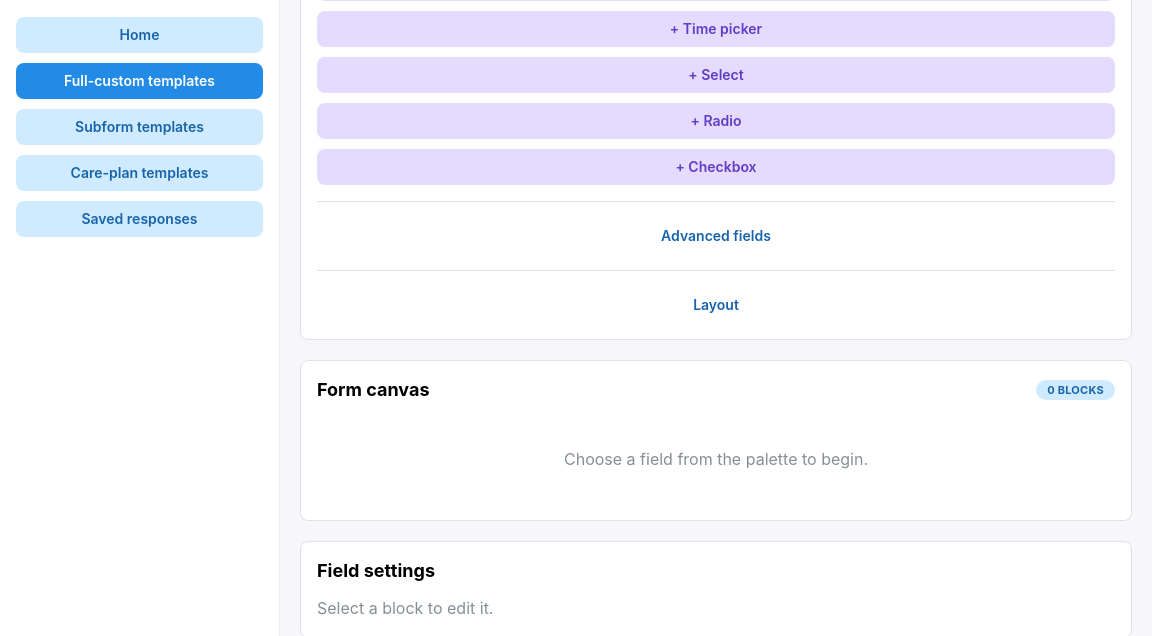
Test: form builder › adds an input inside a stacked container
(page scrolled)
Click the button "Layout" at (716, 305), box [317, 287, 1115, 323]
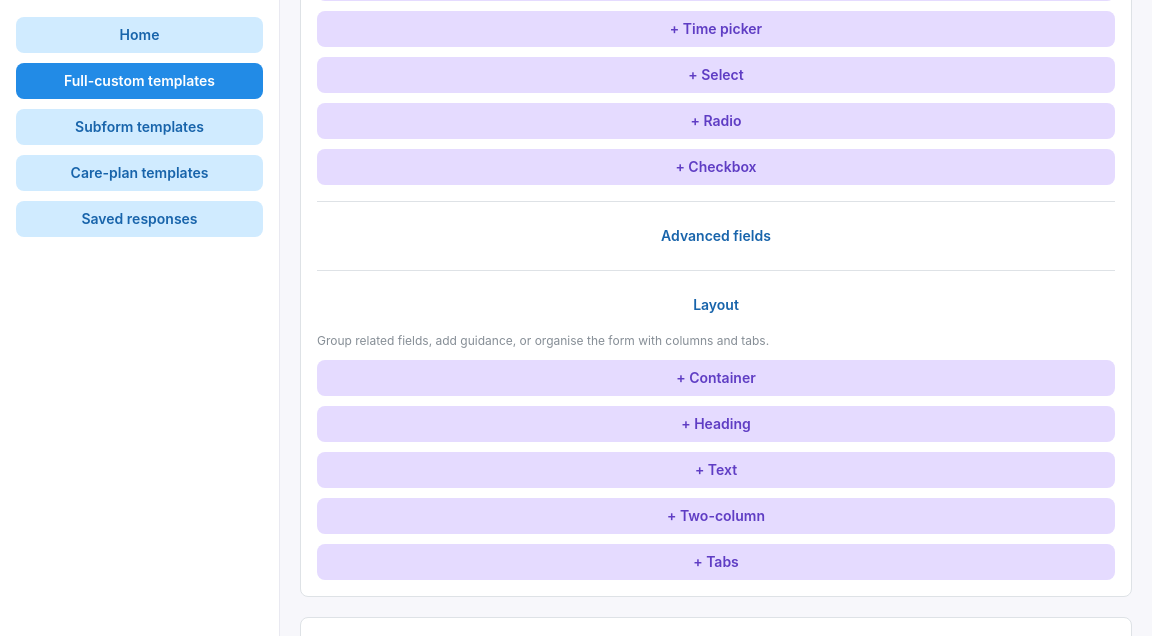
Click the button with aria-label "Add container" at (716, 378), box [317, 360, 1115, 396]
(page scrolled)
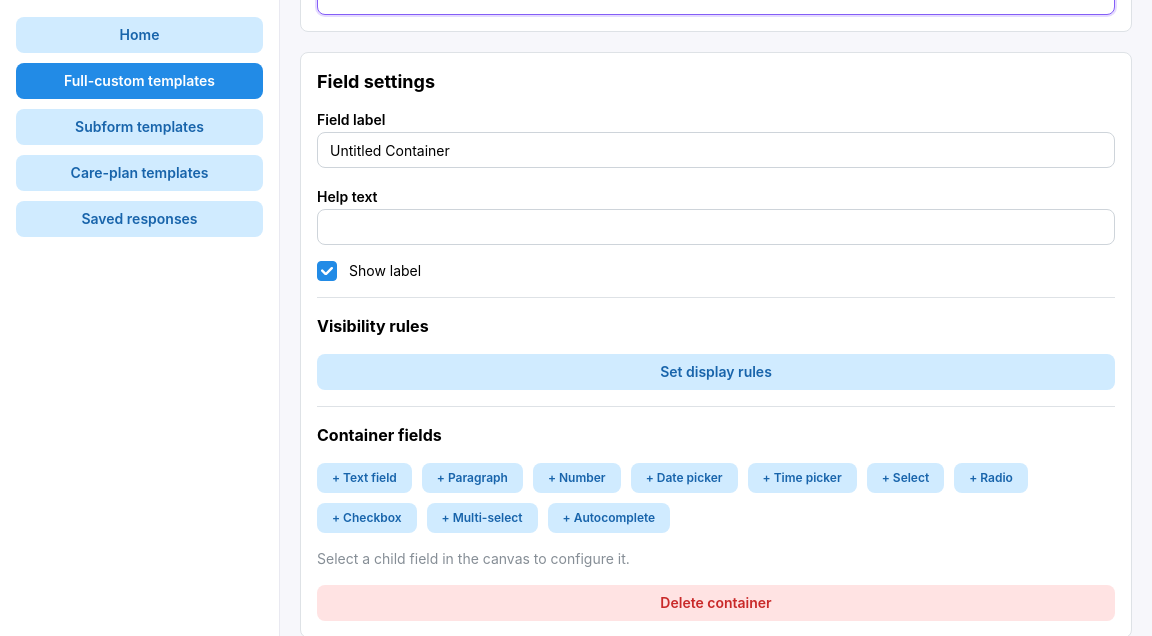
Result: the heading "Container fields" is shown at [317, 425, 442, 445]
Click the button with aria-label "Add paragraph field" at (472, 478), box [422, 463, 523, 493]
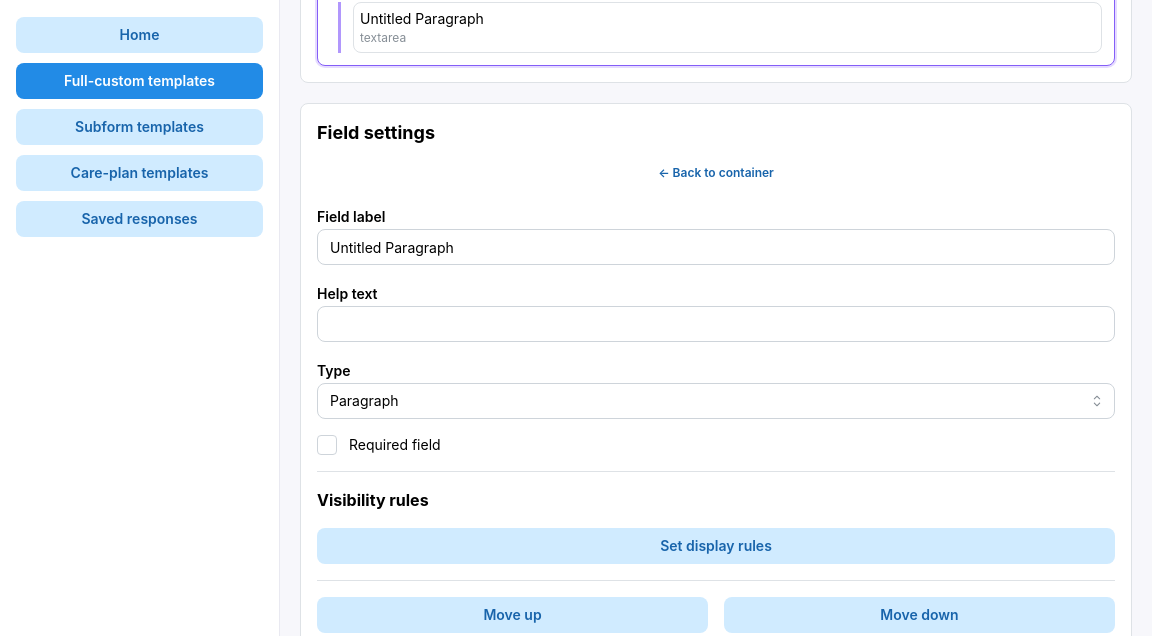
Result: the text "Untitled Paragraph" is shown at [360, 10, 484, 27]
